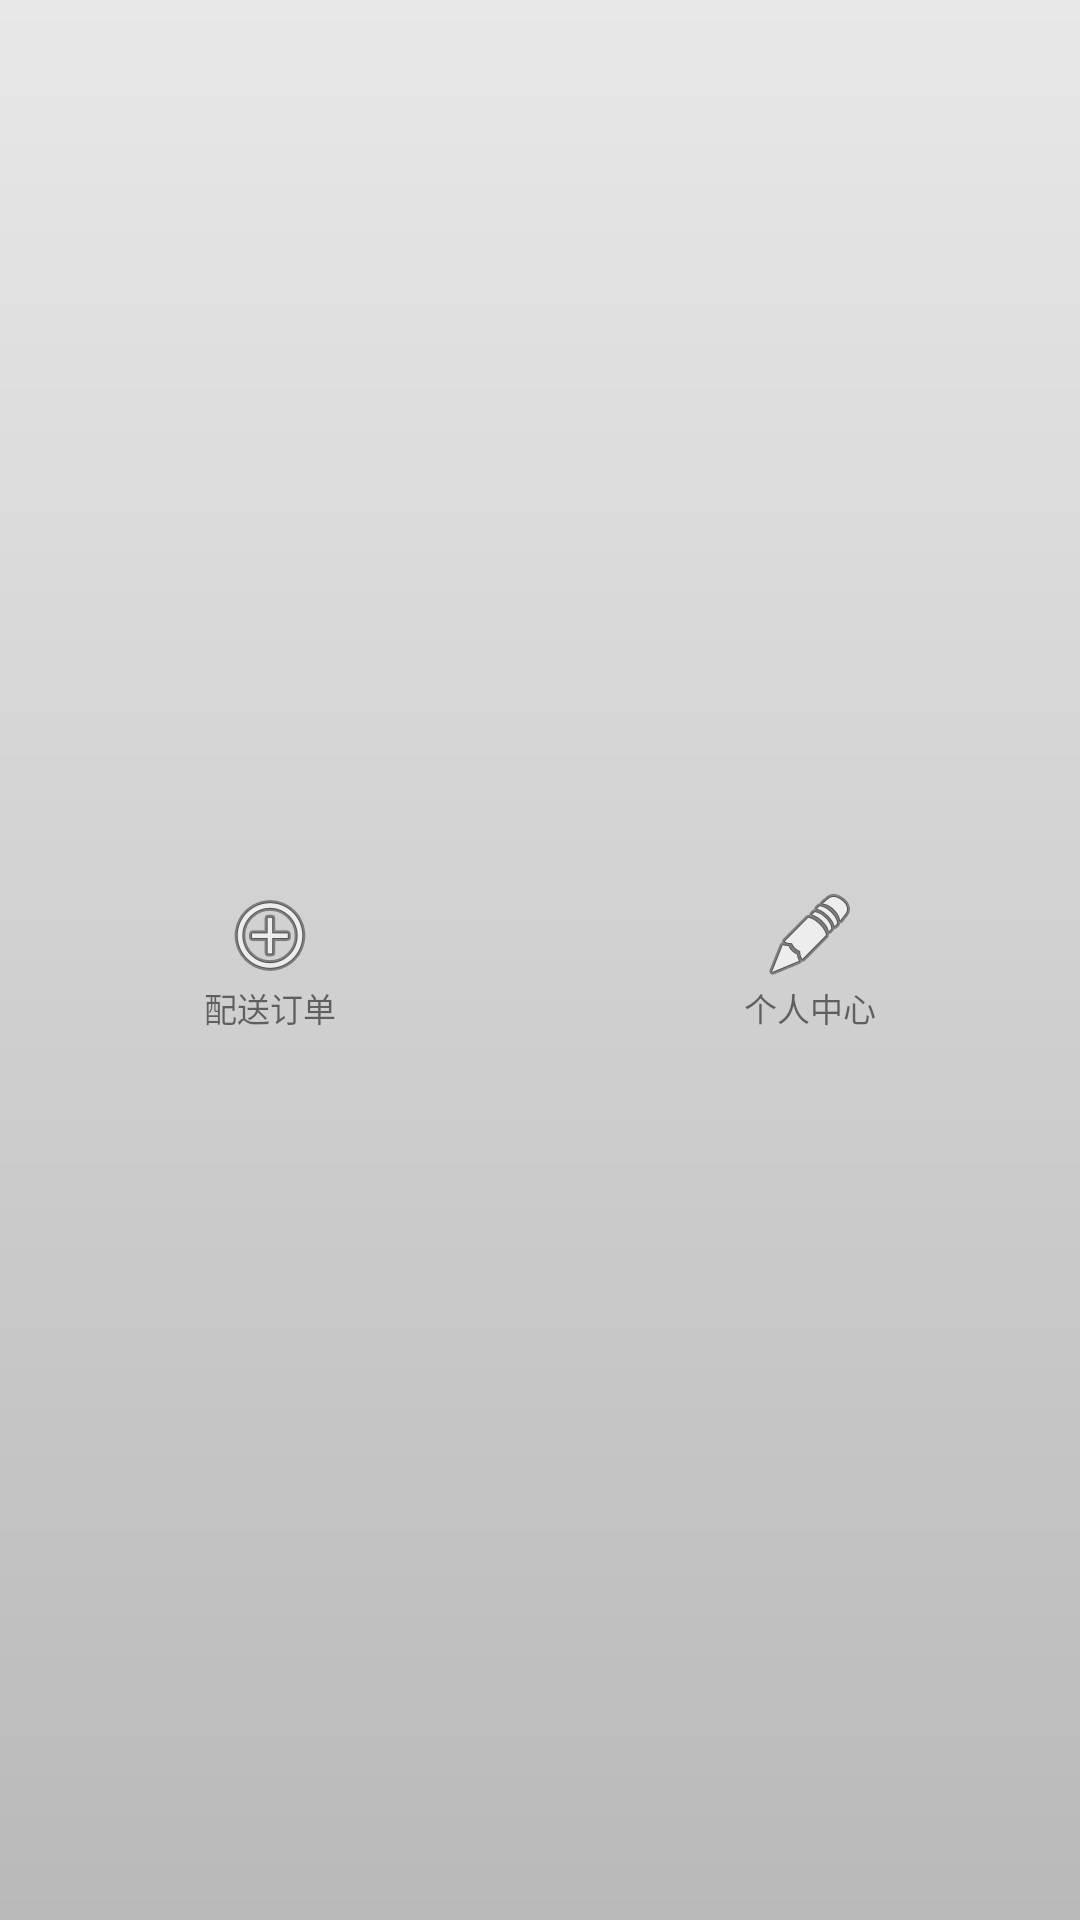

Icons on this 1080w x 1920h Android screen, each with its box as {"x1": x1, "y1": y1, "x2": x2, "y2": y2}:
add: {"x1": 234, "y1": 900, "x2": 306, "y2": 971}
edit: {"x1": 769, "y1": 894, "x2": 850, "y2": 975}
